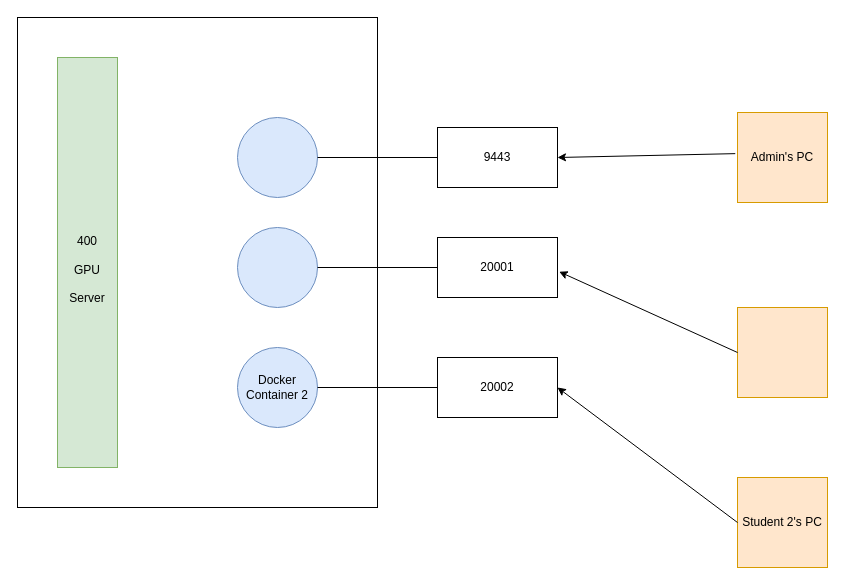
Image size: 845x585. Some labels were removed from this diagram. Here are the shapes that lost their labels. From the top down, the centre of each, then its label:
pixel 277 157: portainer.io
pixel 277 267: Docker Container 1
pixel 782 352: Student 1's PC
